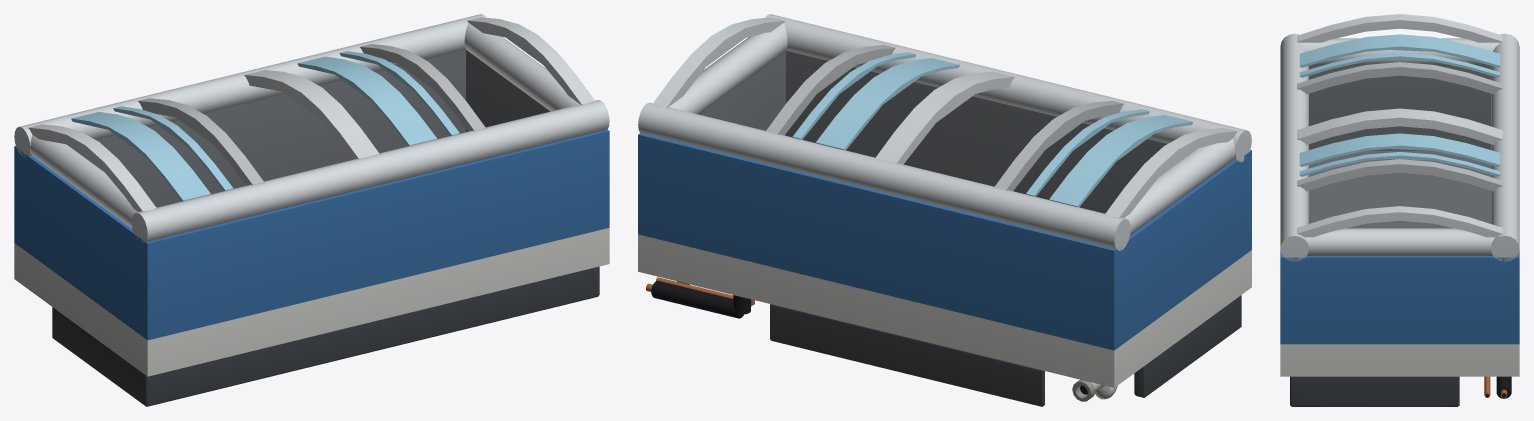
The model's file is IslandFreezer_Coffin_20.glb.
3 renders of one model, left to right at view 1: azimuth 30°, elevation 25°; view 2: azimuth 150°, elevation 25°; view 3: azimuth 270°, elevation 25°, orthographic. The views are drawn at different scales.
Parts seen in each view (by area): view 1: SM_IslandFreezer_Coffin_20; view 2: SM_IslandFreezer_Coffin_20; view 3: SM_IslandFreezer_Coffin_20.
Part boxes in pixels (bbox=[...]): SM_IslandFreezer_Coffin_20: bbox=[14, 14, 609, 406]; SM_IslandFreezer_Coffin_20: bbox=[638, 14, 1251, 406]; SM_IslandFreezer_Coffin_20: bbox=[1280, 14, 1519, 406].
Size of the model in its own units: 2 by 0.9 by 1.
Materials: 1 (1 with a texture image).
